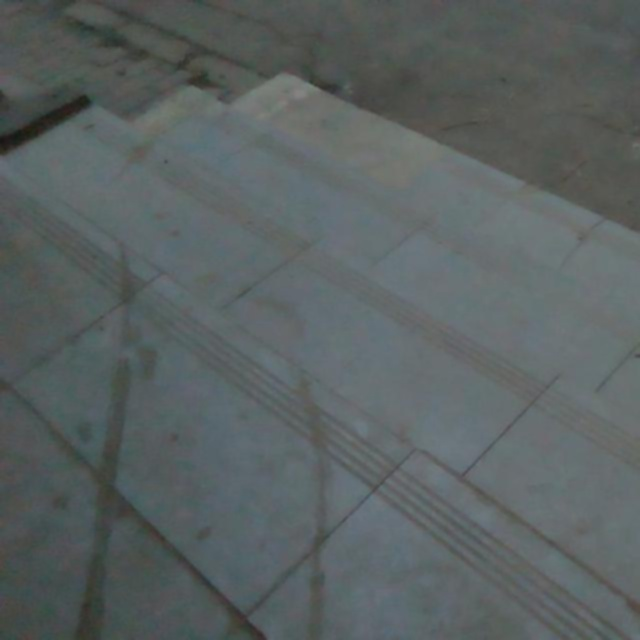stair: (0, 84, 607, 585)
